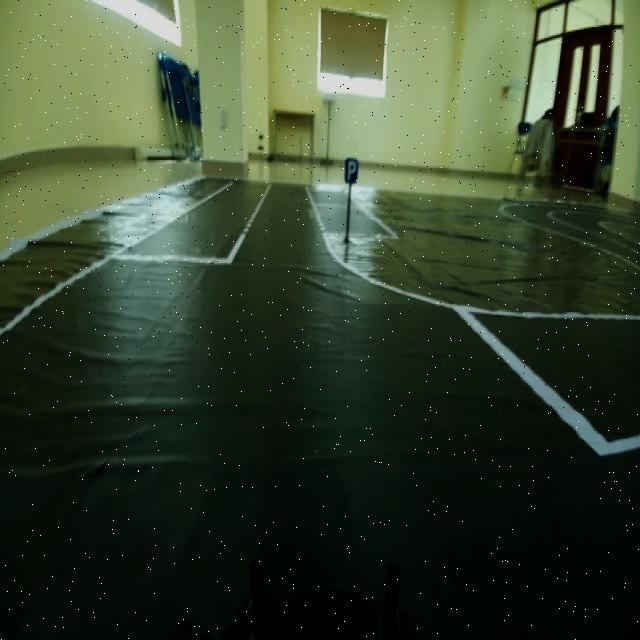parking: (340, 150, 361, 186)
